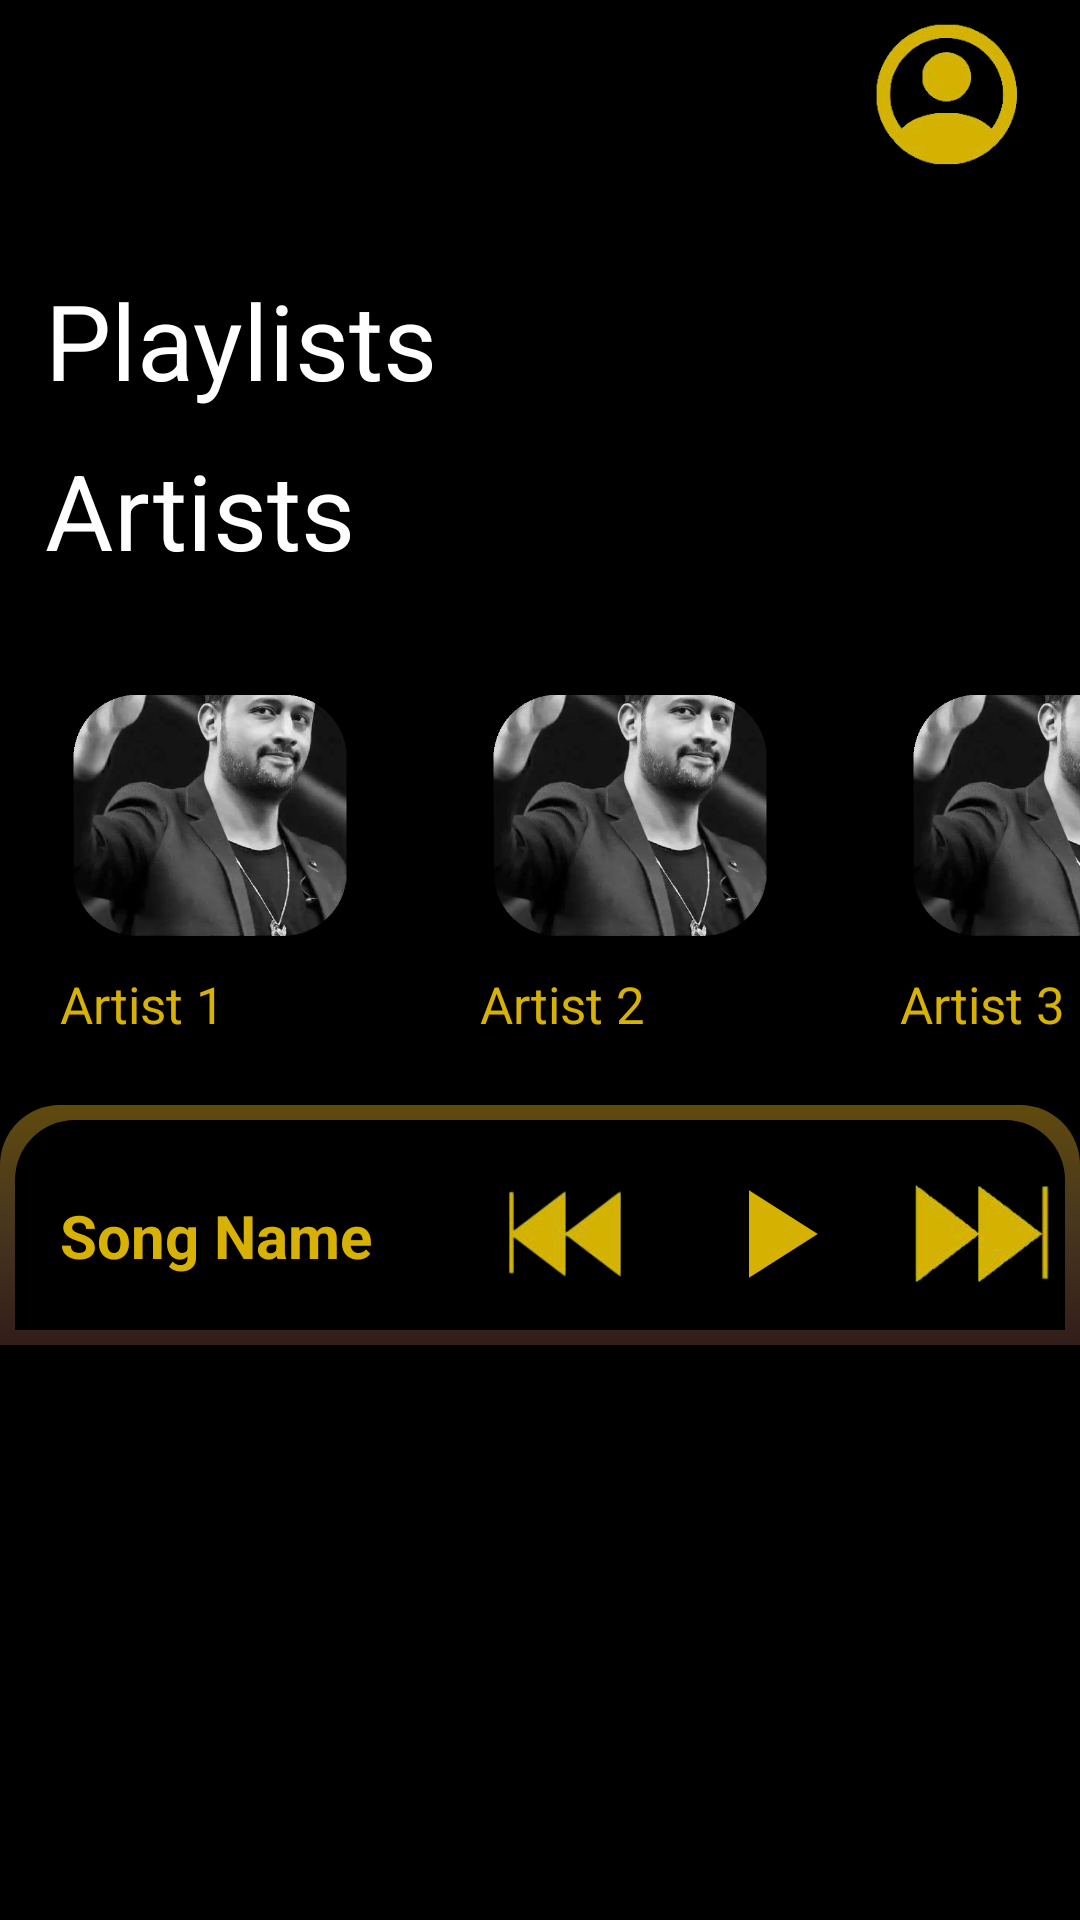

Icon bounding boxes for this 1080*1920 phone screenshot, format (x1, y1, x2, y2):
backtrack: (509, 1191, 621, 1276)
forwardtrack: (915, 1185, 1049, 1282)
play: (749, 1190, 818, 1278)
